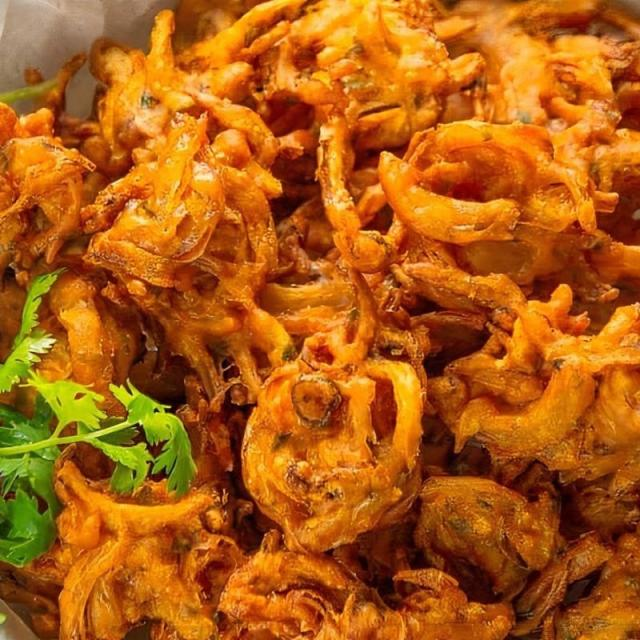BAJI: (0, 0, 639, 639)
